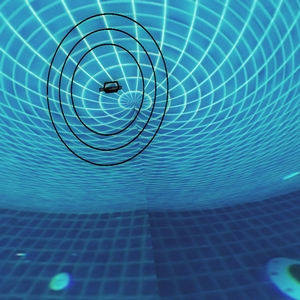circle: (43, 6, 171, 171)
submarine: (101, 80, 120, 94)
